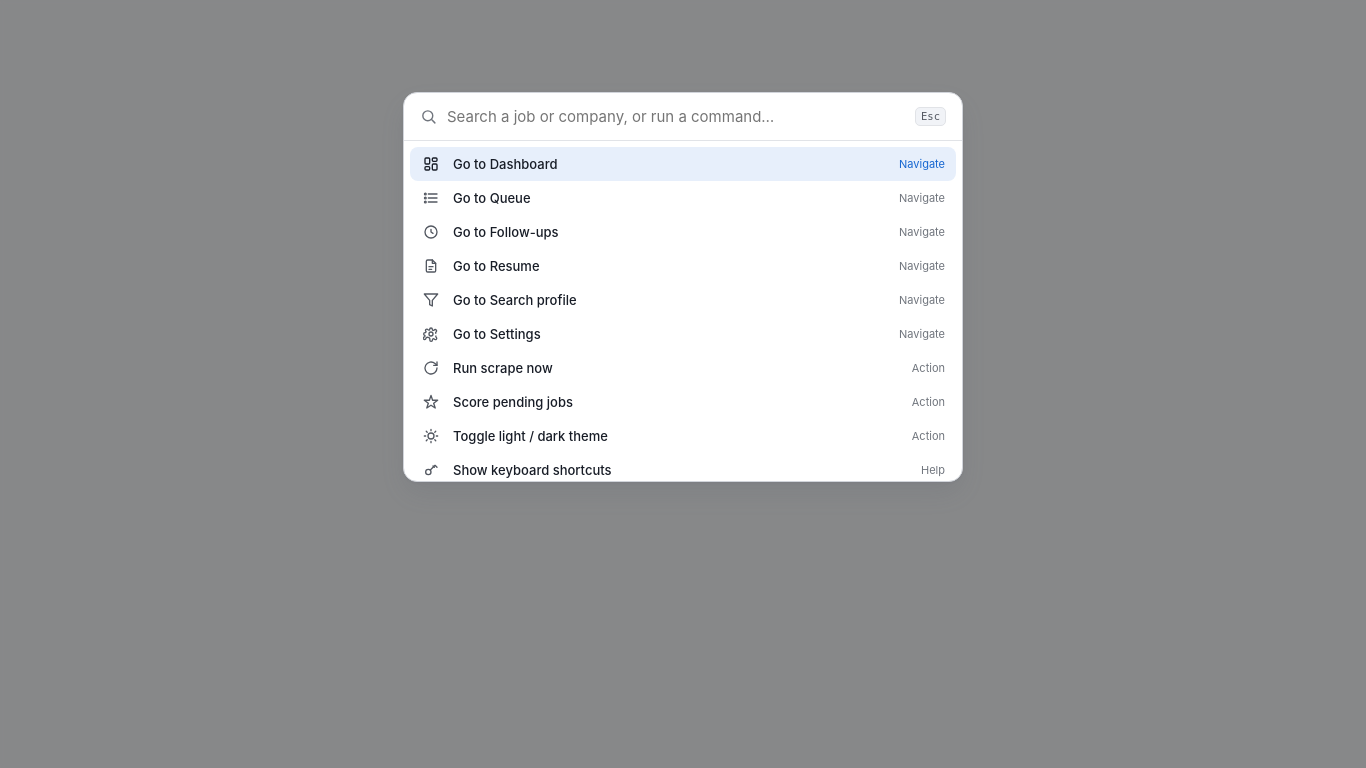
it: CommandPalette › filters as you type
Type "theme" into the field named "Command palette input".
click(676, 117); type("theme")  # box [447,107,905,126]
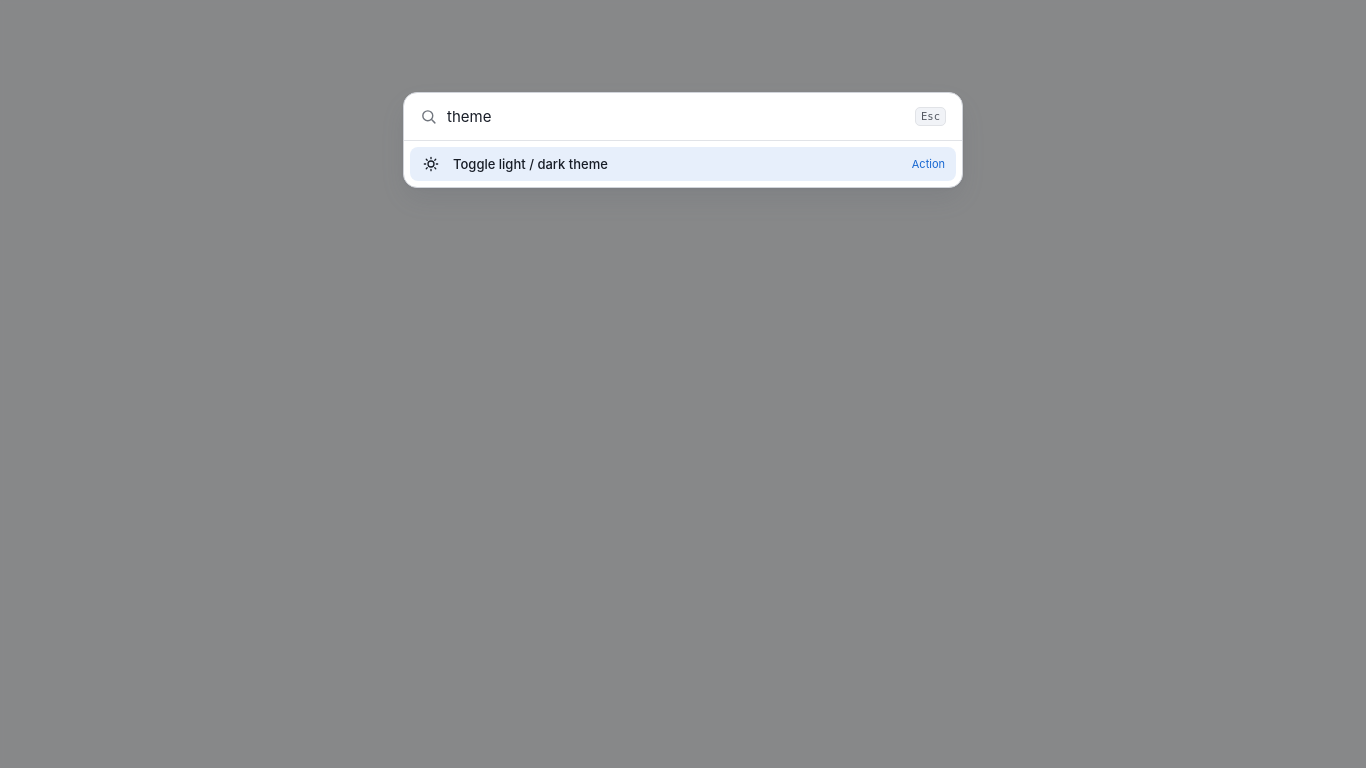
Expected: the text "Toggle light / dark theme" is shown, [453,156,608,172]
Expected: the button "Go to Dashboard" is gone
